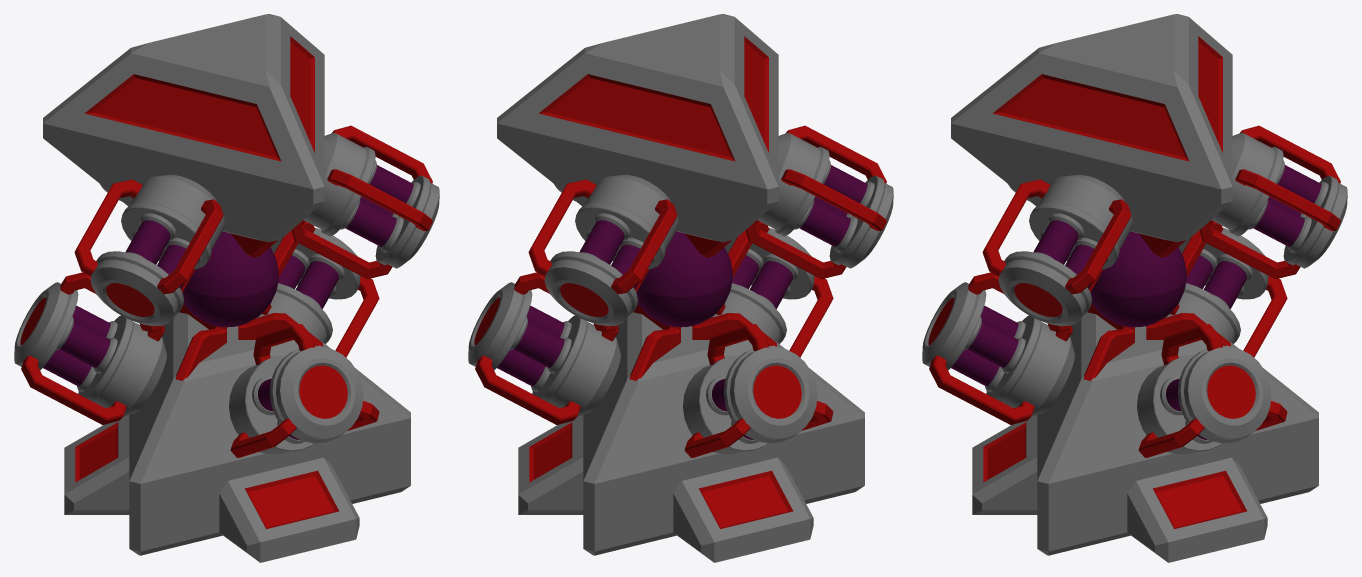
Rendered from reactor.fbx.
3 views of the same model, side by side, from view 1: azimuth 30°, elevation 25°; view 2: azimuth 150°, elevation 25°; view 3: azimuth 270°, elevation 25° (orthographic).
Parts seen in each view (by area): view 1: Component_11_1, Component_9_1, Component_8_1, Component_10_1, Component_2_3, Component_12_1, Component_10_2, Component_2_4, Component_3_1, Component_3_4, Component_3_5, Component_2_1 (+28 smaller); view 2: Component_11_1, Component_9_1, Component_8_1, Component_10_2, Component_2_1, Component_12_1, Component_10_3, Component_2_2, Component_3_6, Component_3_2, Component_3_4, Component_2_6 (+28 smaller); view 3: Component_11_1, Component_9_1, Component_8_1, Component_10_3, Component_2_6, Component_12_1, Component_10_1, Component_2_5, Component_3_3, Component_3_5, Component_3_2, Component_2_3 (+28 smaller).
Part boxes in pixels (<box>): Component_11_1: <box>43,14,324,189</box>; Component_9_1: <box>129,312,410,555</box>; Component_8_1: <box>43,123,324,242</box>; Component_10_1: <box>219,457,359,562</box>; Component_2_3: <box>269,346,363,443</box>; Component_12_1: <box>182,231,278,327</box>; Component_10_2: <box>64,415,129,514</box>; Component_2_4: <box>90,251,184,326</box>; Component_3_1: <box>78,315,166,416</box>; Component_3_4: <box>121,174,224,269</box>; Component_3_5: <box>303,132,375,236</box>; Component_2_1: <box>14,282,78,370</box>; Component_11_1: <box>497,14,778,189</box>; Component_9_1: <box>583,312,864,555</box>; Component_8_1: <box>497,123,778,242</box>; Component_10_2: <box>673,457,813,562</box>; Component_2_1: <box>723,346,817,443</box>; Component_12_1: <box>636,231,732,327</box>; Component_10_3: <box>518,415,583,514</box>; Component_2_2: <box>544,251,638,326</box>; Component_3_6: <box>532,315,620,416</box>; Component_3_2: <box>575,174,678,269</box>; Component_3_4: <box>757,132,829,236</box>; Component_2_6: <box>468,282,532,370</box>; Component_11_1: <box>951,14,1232,189</box>; Component_9_1: <box>1037,312,1318,555</box>; Component_8_1: <box>951,123,1232,242</box>; Component_10_3: <box>1127,457,1267,562</box>; Component_2_6: <box>1177,346,1271,443</box>; Component_12_1: <box>1090,231,1186,327</box>; Component_10_1: <box>972,415,1037,514</box>; Component_2_5: <box>998,251,1092,326</box>; Component_3_3: <box>986,315,1074,416</box>; Component_3_5: <box>1029,174,1132,269</box>; Component_3_2: <box>1211,132,1283,236</box>; Component_2_3: <box>922,282,986,370</box>.
Size of the model in its own units: 124 by 152 by 131.
